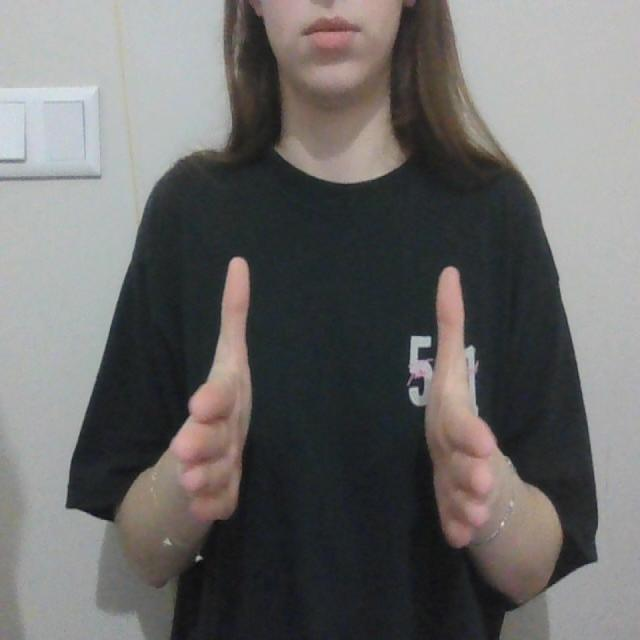Nasil: (169, 243, 499, 555)
